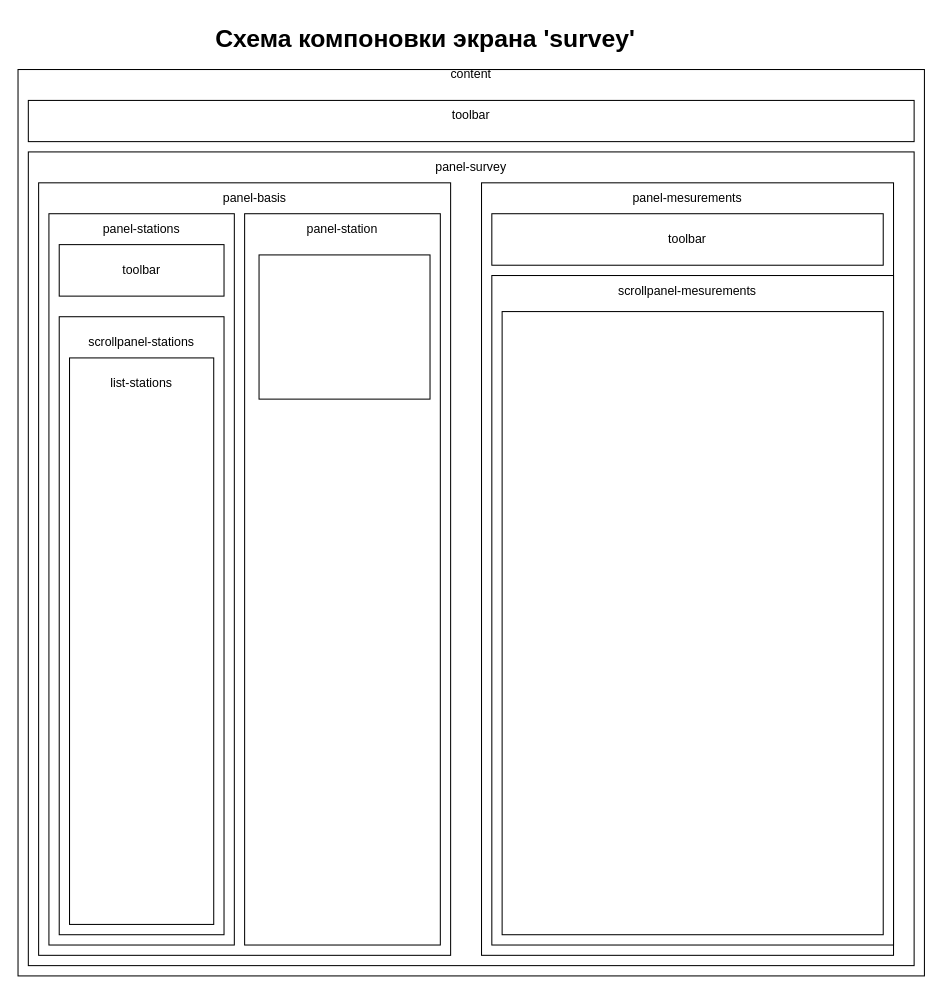
Image size: 942x994. Some labels were removed from this diagram. The centre of each missing label's shape, as x and y in pixels:
table-mesurements: point (692, 623)
table-station: point (344, 326)
